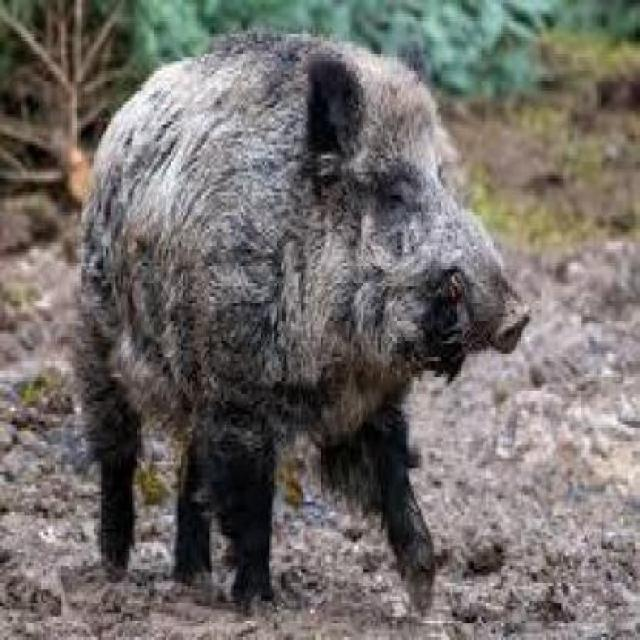wildboar: (72, 18, 540, 612)
